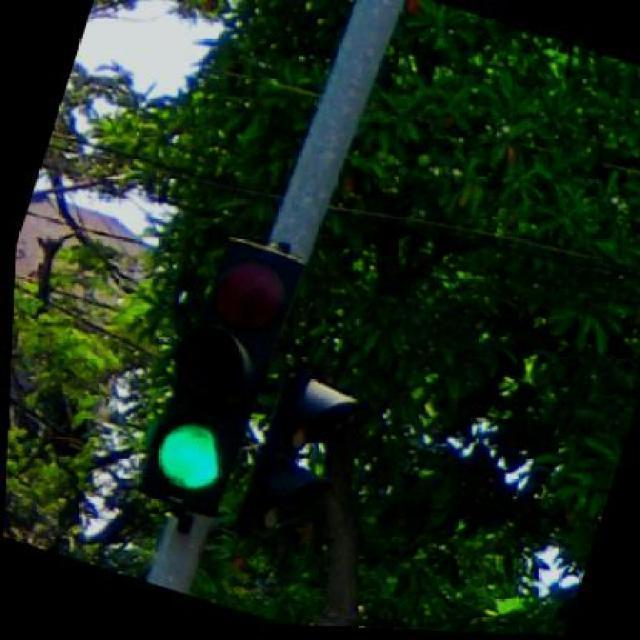green_light: (140, 237, 302, 514)
